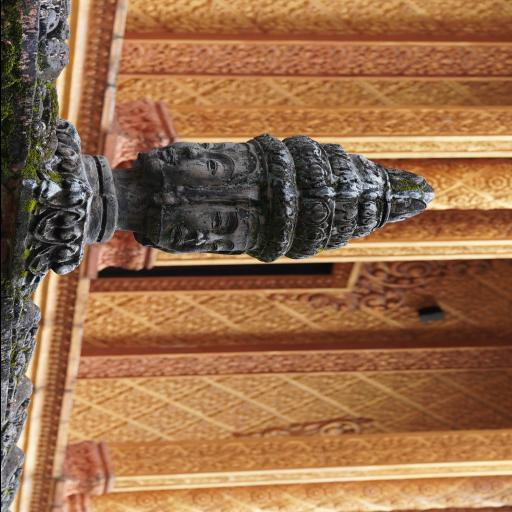than: (27, 125, 430, 276), (142, 198, 268, 256), (142, 138, 260, 190)
